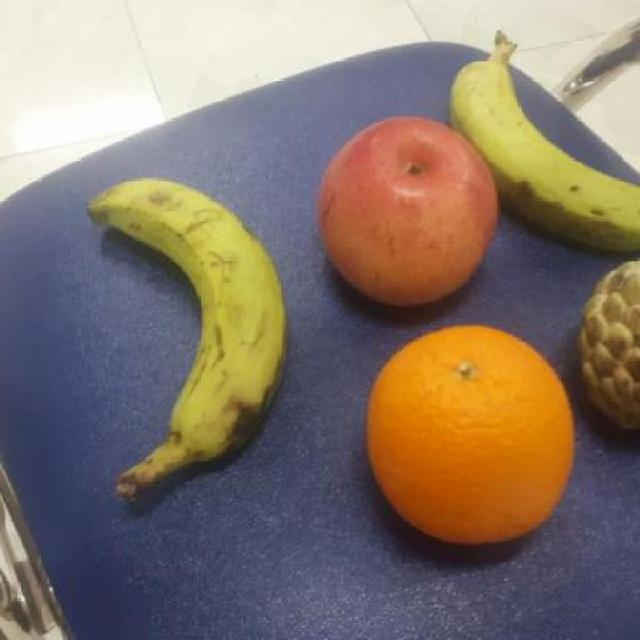apple: (314, 116, 501, 310)
banana: (85, 165, 288, 463), (446, 54, 640, 249)
oren: (365, 321, 577, 548)
sugar apple: (568, 249, 640, 434)
